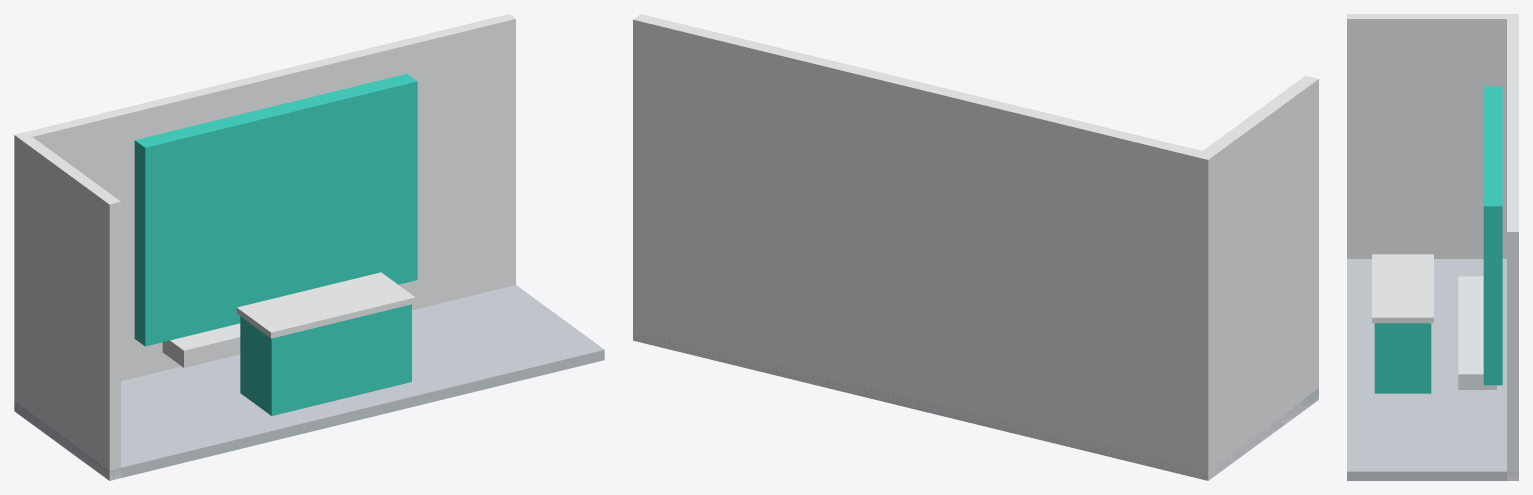
3 views of the same model, side by side, from view 1: azimuth 30°, elevation 25°; view 2: azimuth 150°, elevation 25°; view 3: azimuth 270°, elevation 25° (orthographic). The views are drawn at different scales.
Visible parts, largest first — view 1: Exhibition Booth Concept; view 2: Exhibition Booth Concept; view 3: Exhibition Booth Concept.
Part boxes in pixels (x1,y1,x2,y2): Exhibition Booth Concept: [14, 14, 604, 480]; Exhibition Booth Concept: [633, 14, 1318, 480]; Exhibition Booth Concept: [1347, 14, 1518, 480].
Size of the model in its own units: 6 by 3.2 by 2.
